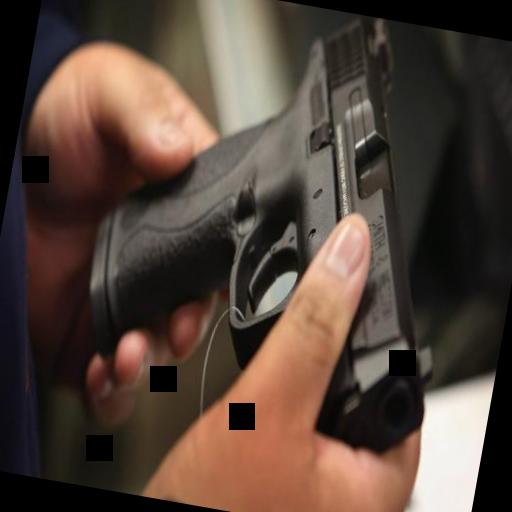Handgun: (62, 0, 490, 458)
